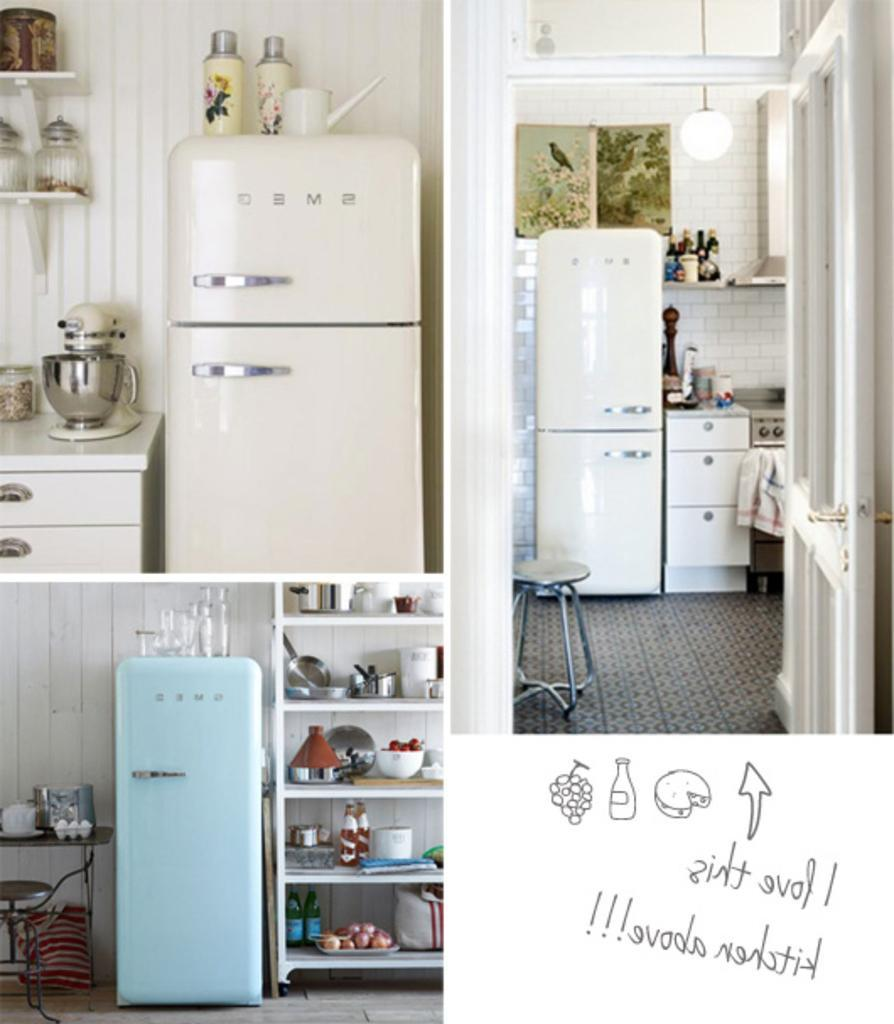door: (790, 67, 851, 734)
handle: (804, 504, 852, 534)
